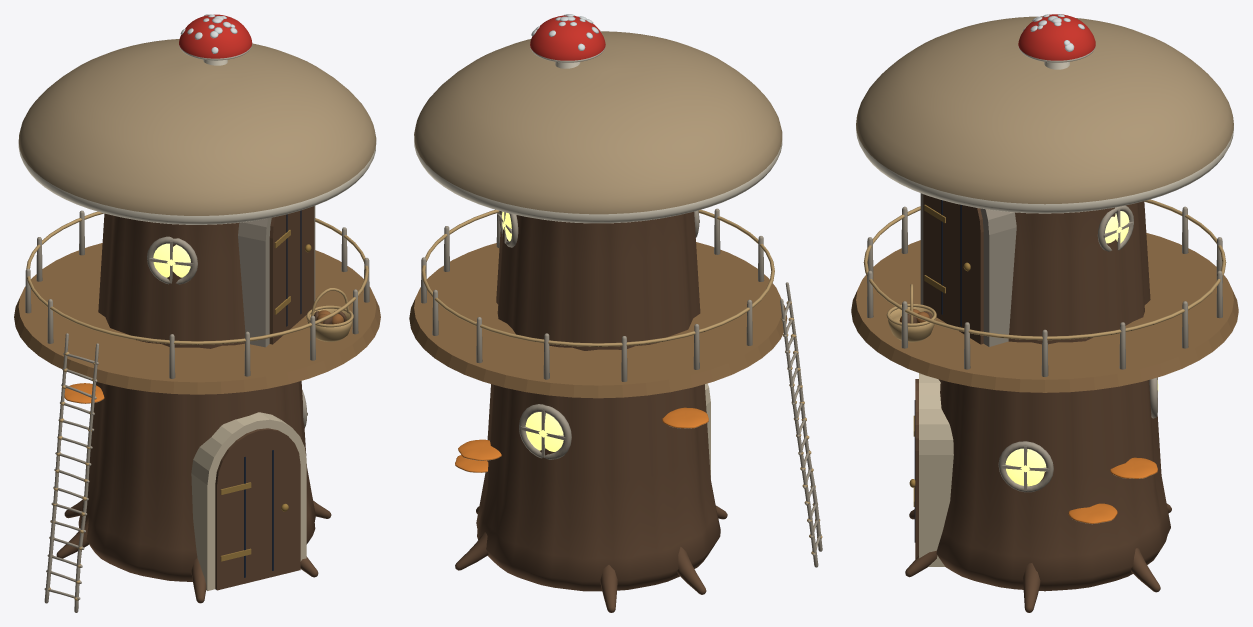
File: sh_bark_tower.fbx
3 renders of one model, left to right at view 1: azimuth 30°, elevation 25°; view 2: azimuth 150°, elevation 25°; view 3: azimuth 270°, elevation 25°, orthographic. The views are drawn at different scales.
Parts seen in each view (by area): view 1: SH_Bark_Tower; view 2: SH_Bark_Tower; view 3: SH_Bark_Tower.
Boxes of the visible parts, left/top/right/bottom form: SH_Bark_Tower: left=14, top=14, right=380, bottom=612; SH_Bark_Tower: left=409, top=14, right=822, bottom=612; SH_Bark_Tower: left=851, top=14, right=1238, bottom=612.
Bounding box in the file's own units: 172 × 248 × 160.
